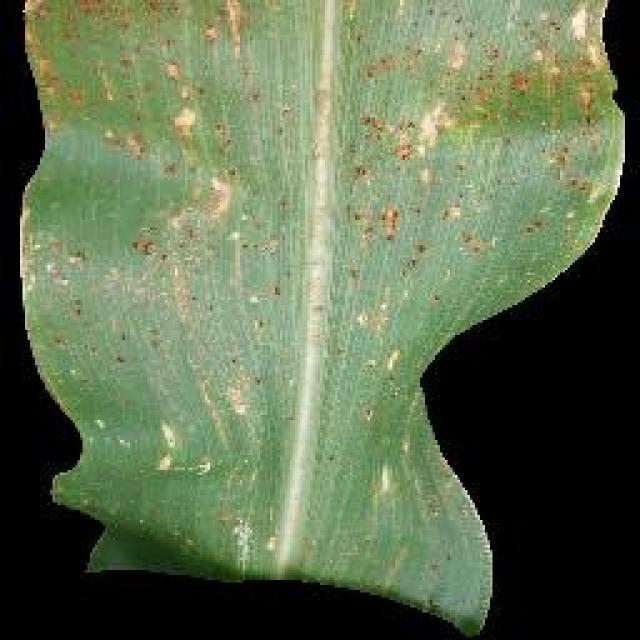Corn Common Rust: (89, 57, 508, 488)
